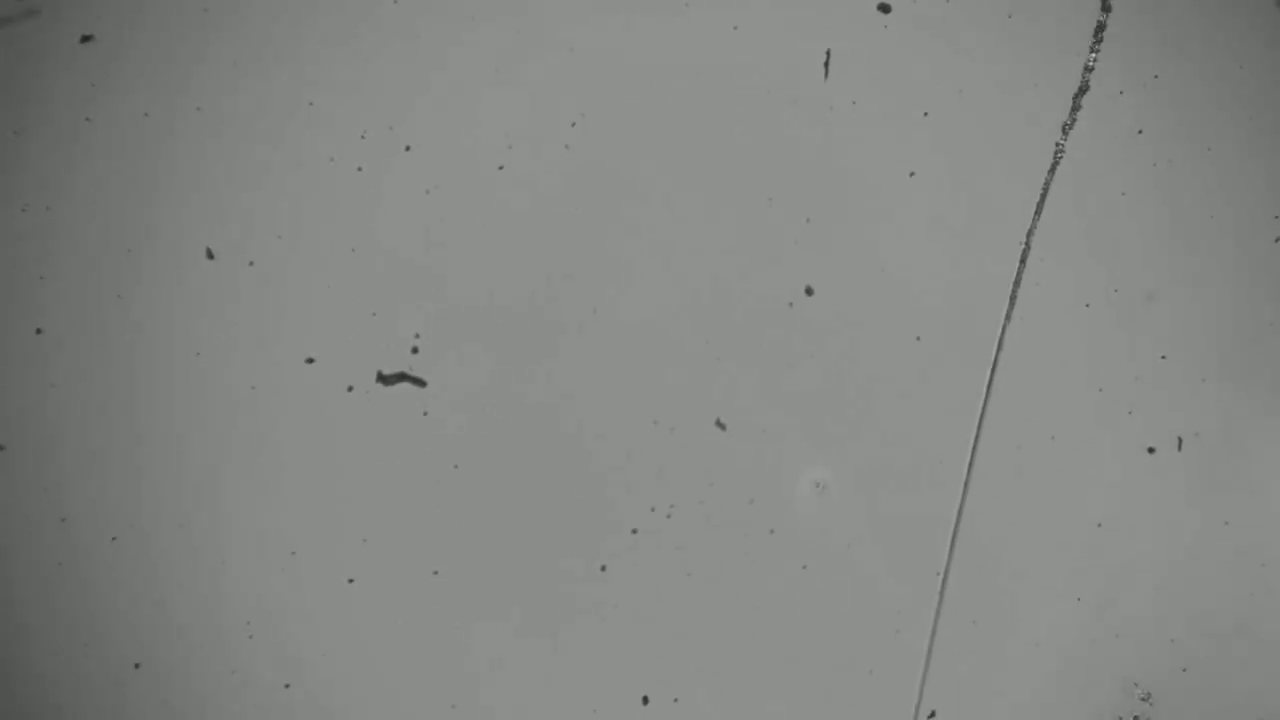scratch: (905, 1, 1148, 707)
